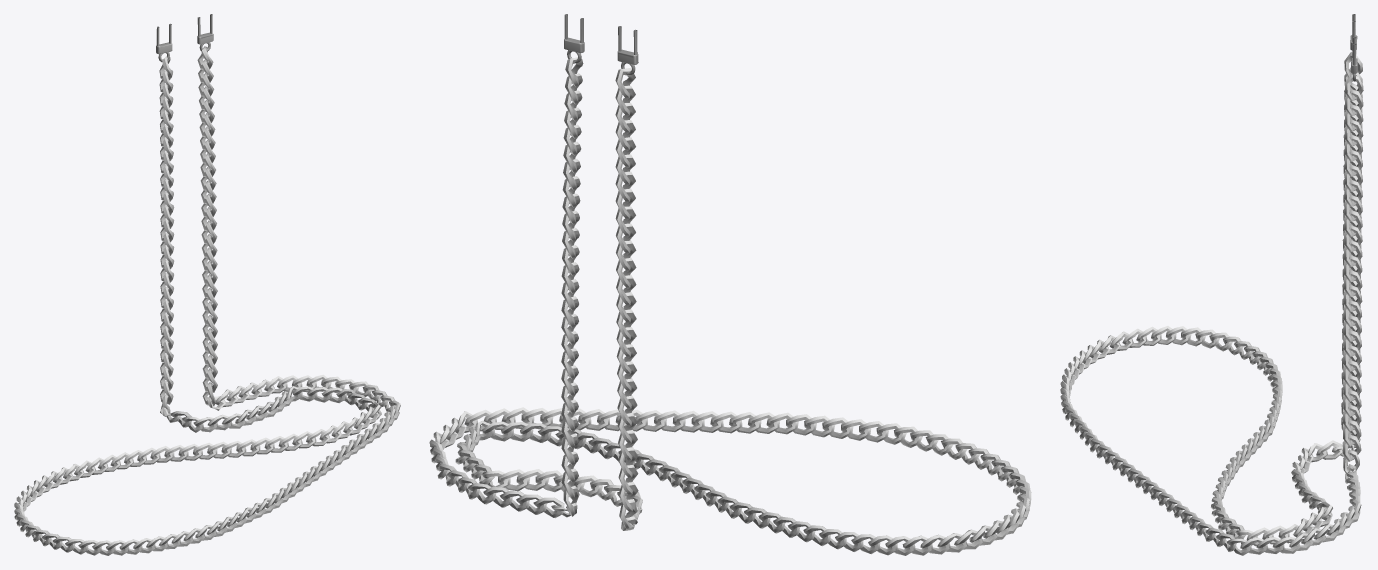
The model's file is Strap06.fbx.
The picture shows the model from 3 angles, left to right: view 1: azimuth 30°, elevation 25°; view 2: azimuth 150°, elevation 25°; view 3: azimuth 270°, elevation 25°; orthographic projection. The views are drawn at different scales.
Visible parts, largest first — view 1: Strap06; view 2: Strap06; view 3: Strap06.
Boxes of the visible parts, x1,y1,x2,y2 form: Strap06: [14, 14, 400, 555]; Strap06: [429, 14, 1031, 555]; Strap06: [1060, 14, 1363, 555].
Size of the model in its own units: 2467 by 2331 by 1445.
